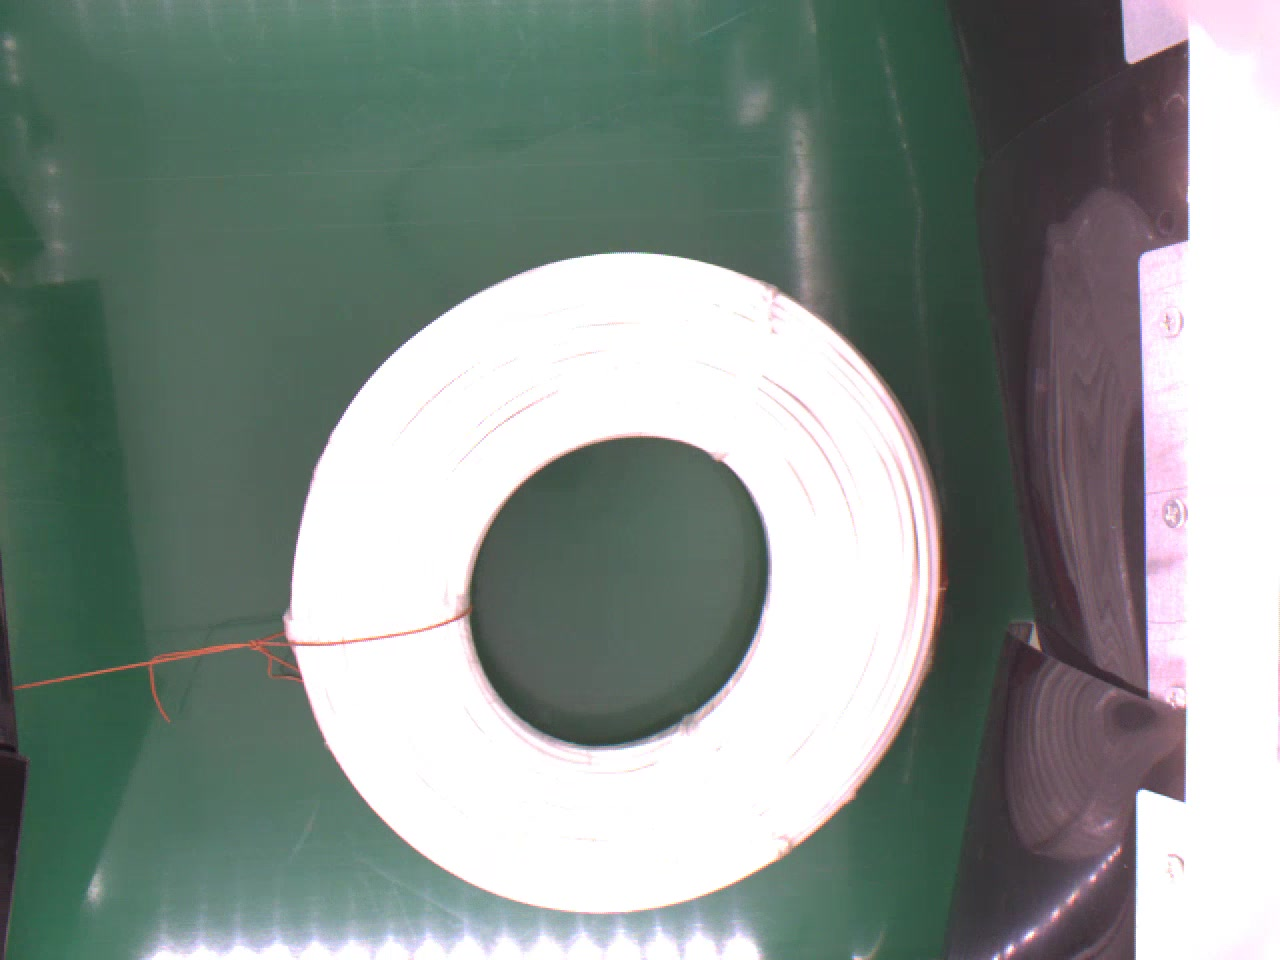white: (272, 240, 954, 912)
